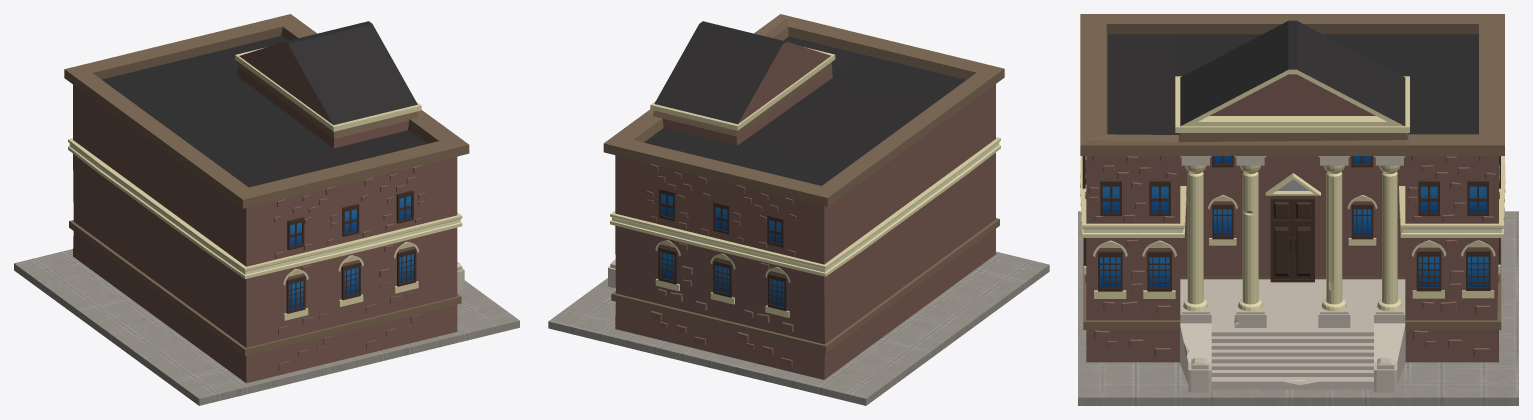
File: City_hall_01.fbx
The picture shows the model from 3 angles, left to right: view 1: azimuth 30°, elevation 25°; view 2: azimuth 150°, elevation 25°; view 3: azimuth 270°, elevation 25°; orthographic projection. The views are drawn at different scales.
Visible parts, largest first — view 1: City_hall_01; view 2: City_hall_01; view 3: City_hall_01.
Boxes of the visible parts, x1=… form: City_hall_01: x1=14, y1=14, x2=519, y2=405; City_hall_01: x1=548, y1=14, x2=1049, y2=405; City_hall_01: x1=1078, y1=14, x2=1518, y2=405.
Bounding box in the file's own units: 2400 × 1813 × 2400.
